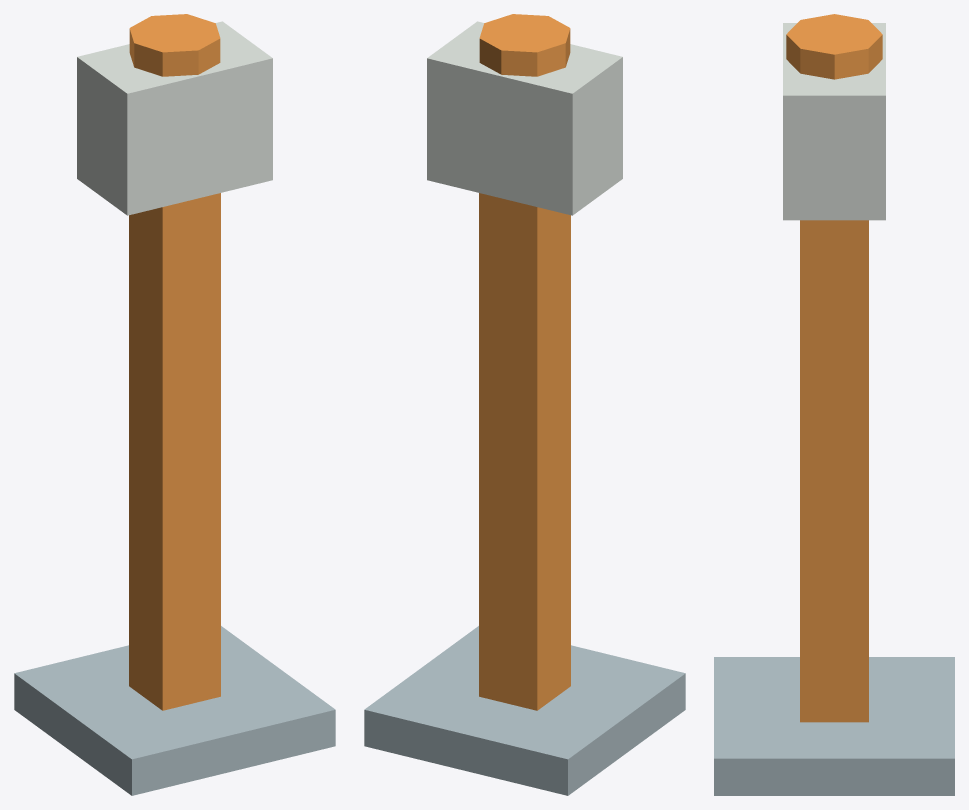
The model's file is emergency-stop-pedestal.glb.
3 renders of one model, left to right at view 1: azimuth 30°, elevation 25°; view 2: azimuth 150°, elevation 25°; view 3: azimuth 270°, elevation 25°, orthographic. The views are drawn at different scales.
Parts seen in each view (by area): view 1: orange, steel, cream; view 2: orange, steel, cream; view 3: orange, steel, cream.
Part boxes in pixels (left/top/right/bottom): orange: left=129, top=14, right=220, bottom=710; steel: left=14, top=626, right=335, bottom=795; cream: left=77, top=21, right=272, bottom=215; orange: left=479, top=14, right=570, bottom=710; steel: left=364, top=626, right=685, bottom=795; cream: left=427, top=21, right=622, bottom=215; orange: left=786, top=14, right=882, bottom=722; steel: left=714, top=657, right=954, bottom=795; cream: left=783, top=23, right=885, bottom=220.
Size of the model in its own units: 0.35 by 1.14 by 0.35.
